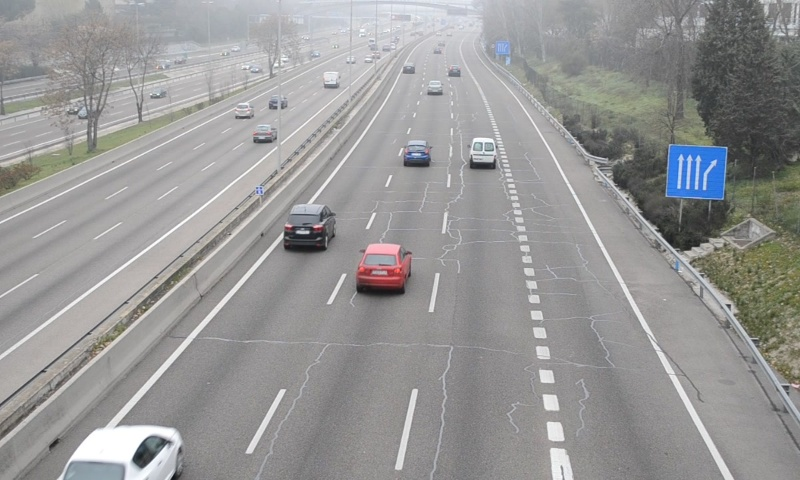car: (60, 424, 181, 480), (356, 244, 409, 290), (284, 204, 334, 248), (402, 139, 430, 165), (426, 80, 443, 95)
van: (469, 138, 496, 168)
